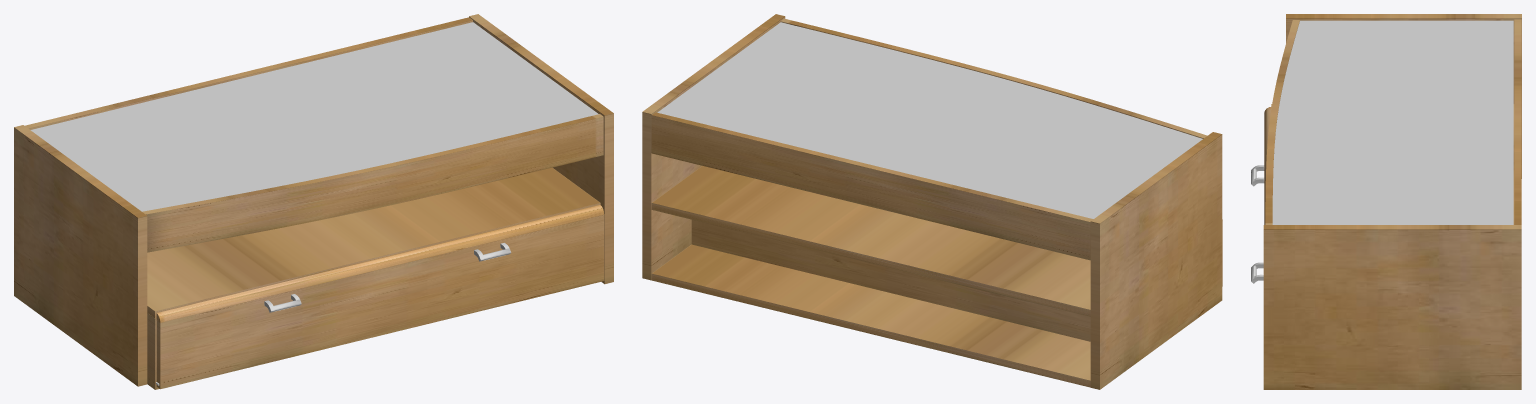
Rendered from tableBasse2.glb.
The picture shows the model from 3 angles, left to right: view 1: azimuth 30°, elevation 25°; view 2: azimuth 150°, elevation 25°; view 3: azimuth 270°, elevation 25°; orthographic projection. The views are drawn at different scales.
Visible parts, largest first — view 1: tableBasse2; view 2: tableBasse2; view 3: tableBasse2.
Part boxes in pixels (box(x1,y1,x2,y2)): tableBasse2: box(14, 14, 613, 389); tableBasse2: box(642, 14, 1222, 389); tableBasse2: box(1251, 14, 1521, 389).
Bounding box in the file's own units: 1.13 × 0.3912 × 0.5976.
4 materials, 2 textured.
